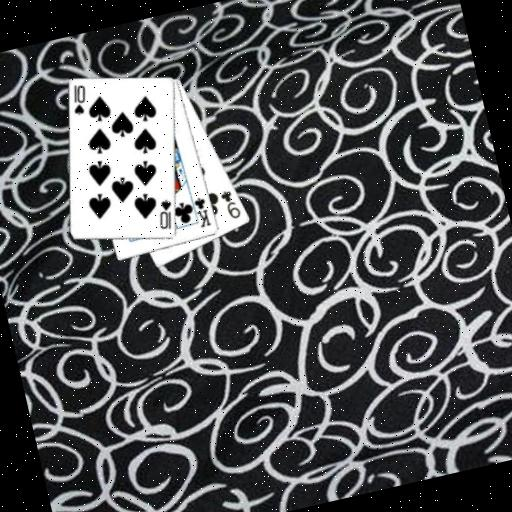10S: (65, 80, 93, 119), (151, 196, 179, 234)
9C: (217, 186, 244, 223)
KC: (187, 191, 213, 231)
